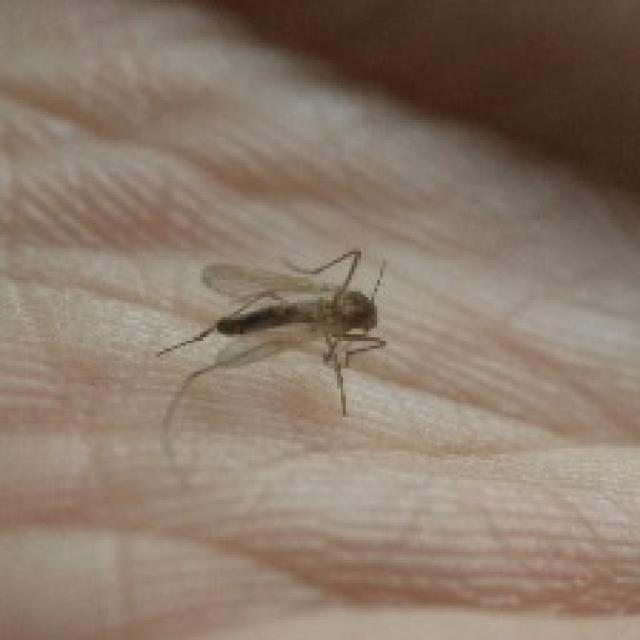culex: (154, 243, 389, 477)
